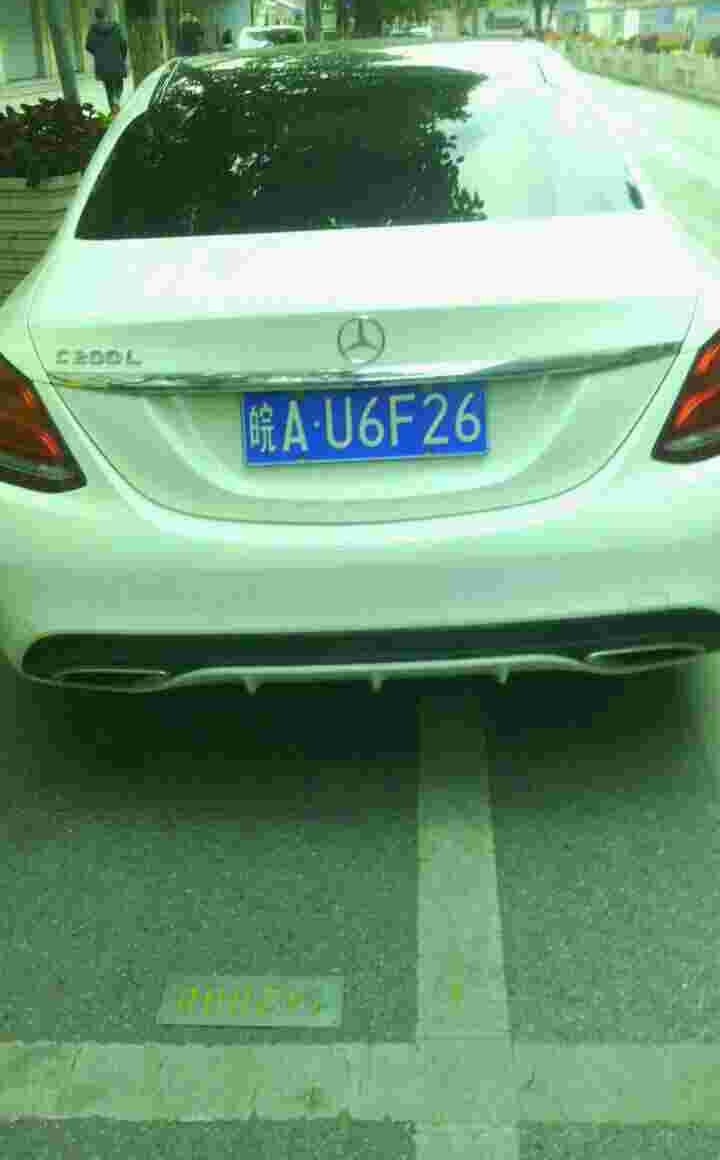plate: (242, 373, 495, 468)
